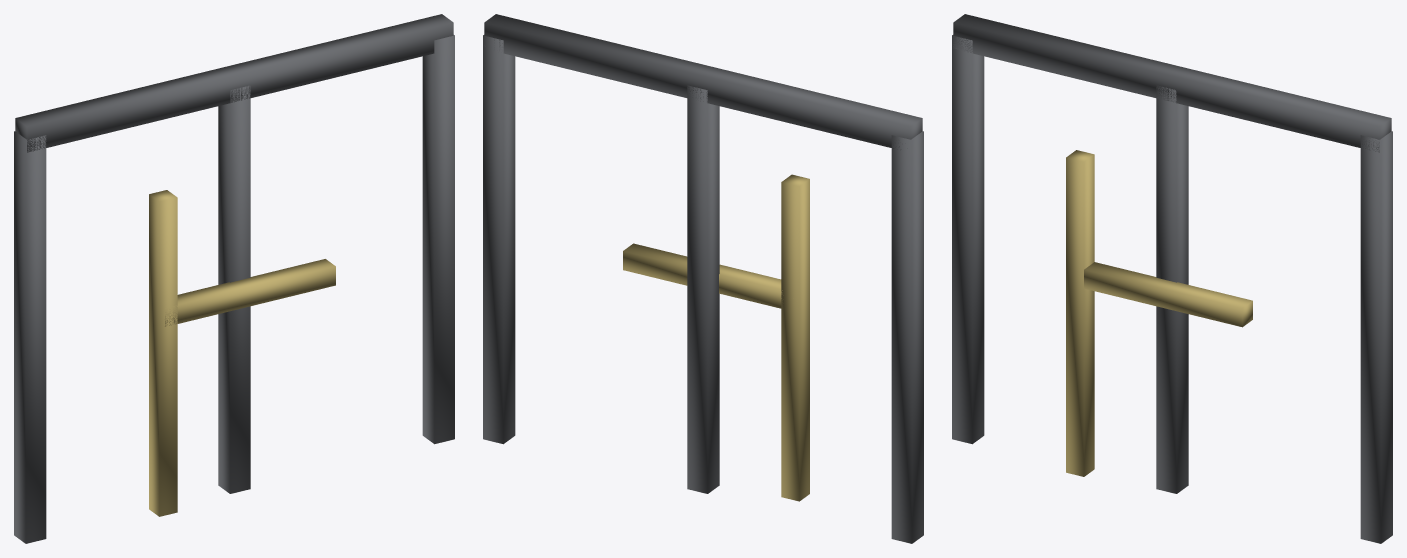
The model's file is steel_gate_l90_h85.glb.
3 views of the same model, side by side, from view 1: azimuth 30°, elevation 25°; view 2: azimuth 150°, elevation 25°; view 3: azimuth 330°, elevation 25° (orthographic).
Parts seen in each view (by area): view 1: world; view 2: world; view 3: world.
Part boxes in pixels (x1=…): world: x1=14, y1=14, x2=454, y2=543; world: x1=483, y1=14, x2=923, y2=543; world: x1=952, y1=14, x2=1392, y2=543.
Bounding box in the file's own units: 0.945 × 0.8775 × 0.0825.
